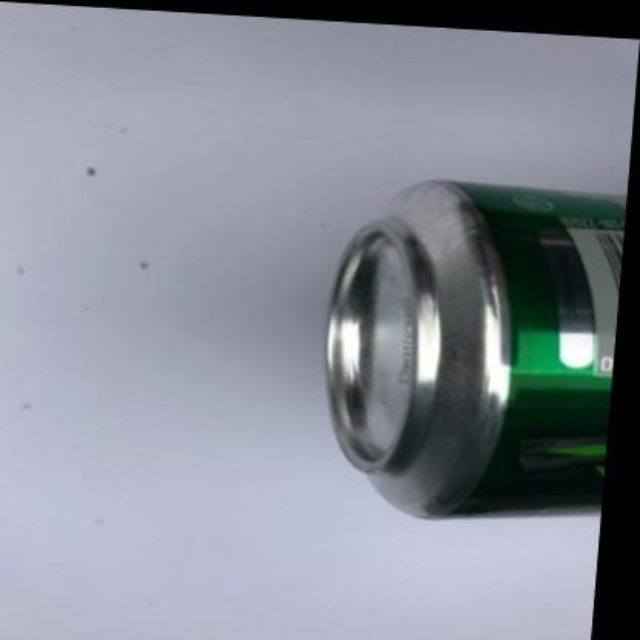trash: (326, 182, 623, 515)
